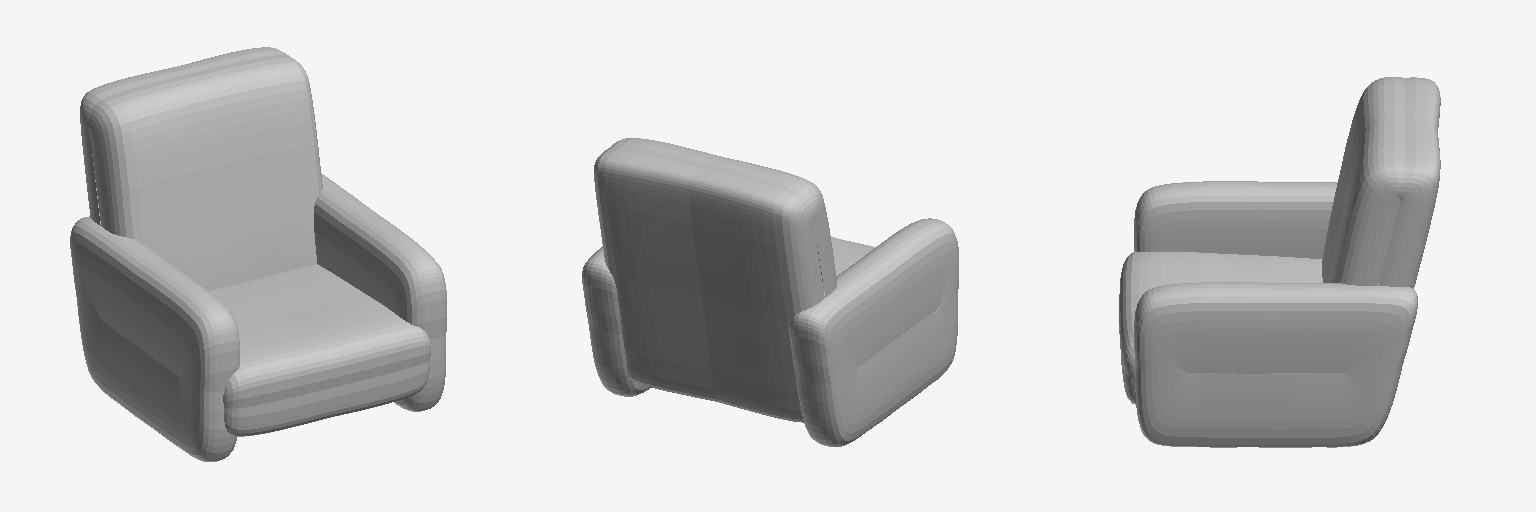
File: armchair.obj
3 views of the same model, side by side, from view 1: azimuth 30°, elevation 25°; view 2: azimuth 150°, elevation 25°; view 3: azimuth 270°, elevation 25° (orthographic).
Parts seen in each view (by area): view 1: Assise_&_Dossier_iris_Assise_&_Dossier_iris_iris, Accoudoir_iris_Accoudoir_iris_iris, Accoudoir_1_iris_Accoudoir_1_iris_iris; view 2: Assise_&_Dossier_iris_Assise_&_Dossier_iris_iris, Accoudoir_iris_Accoudoir_iris_iris, Accoudoir_1_iris_Accoudoir_1_iris_iris; view 3: Accoudoir_1_iris_Accoudoir_1_iris_iris, Assise_&_Dossier_iris_Assise_&_Dossier_iris_iris, Accoudoir_iris_Accoudoir_iris_iris.
Boxes of the visible parts, x1=… form: Assise_&_Dossier_iris_Assise_&_Dossier_iris_iris: x1=80, y1=47, x2=430, y2=436; Accoudoir_iris_Accoudoir_iris_iris: x1=70, y1=216, x2=239, y2=461; Accoudoir_1_iris_Accoudoir_1_iris_iris: x1=314, y1=173, x2=446, y2=411; Assise_&_Dossier_iris_Assise_&_Dossier_iris_iris: x1=594, y1=138, x2=933, y2=422; Accoudoir_iris_Accoudoir_iris_iris: x1=789, y1=218, x2=958, y2=446; Accoudoir_1_iris_Accoudoir_1_iris_iris: x1=582, y1=246, x2=651, y2=396; Accoudoir_1_iris_Accoudoir_1_iris_iris: x1=1134, y1=282, x2=1417, y2=447; Assise_&_Dossier_iris_Assise_&_Dossier_iris_iris: x1=1119, y1=77, x2=1440, y2=404; Accoudoir_iris_Accoudoir_iris_iris: x1=1134, y1=181, x2=1392, y2=282.
Size of the model in its own units: 1.88 by 2 by 2.1.